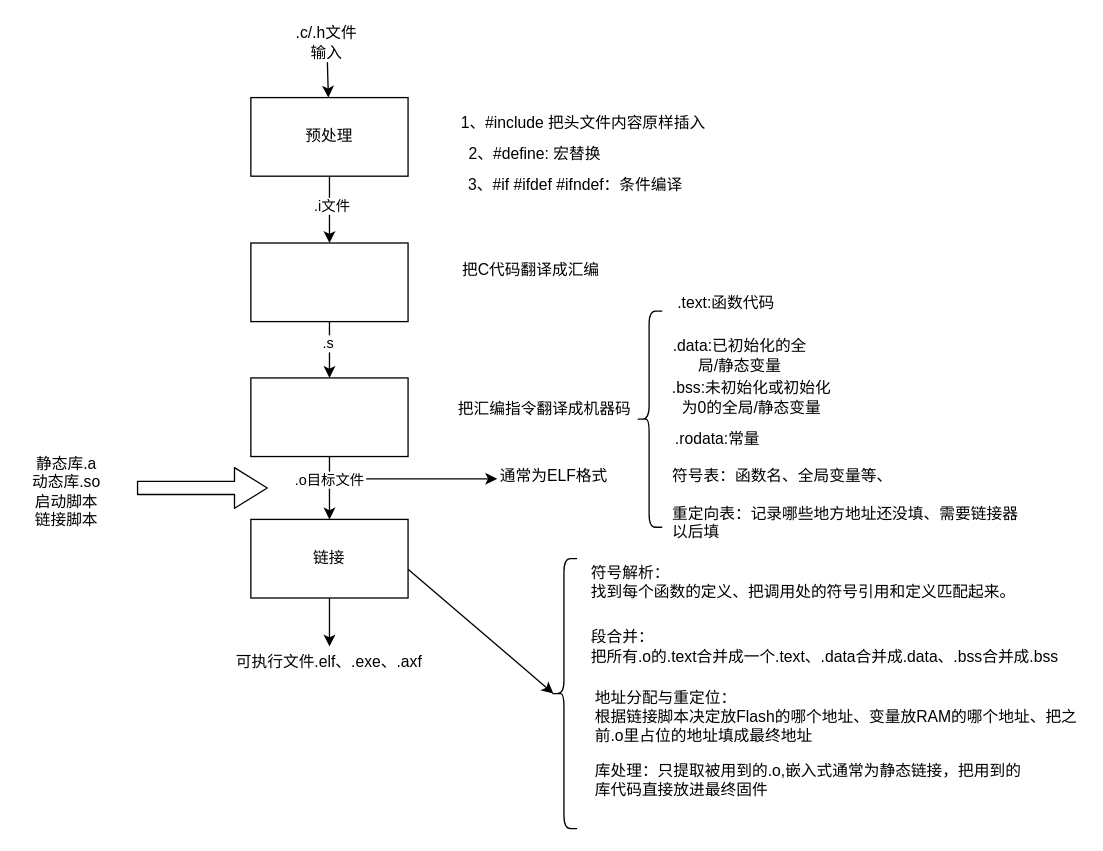
This 1103x851 diagram has some shape labels left out. The centre of each missing label's shape, as x and y in pixels:
汇编: (329,417)
编译: (329,282)
